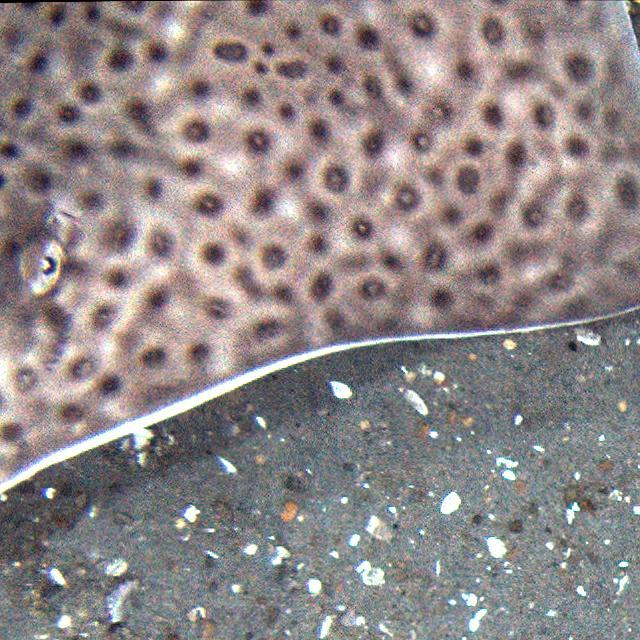skate: (1, 2, 640, 493)
